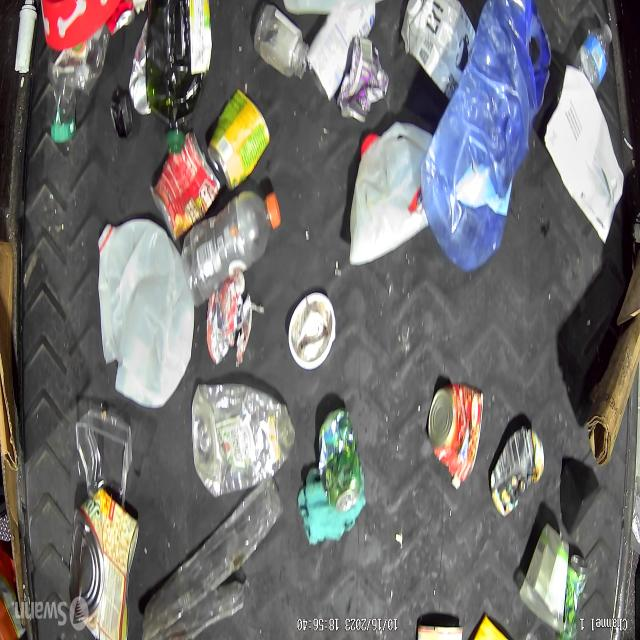can: (69, 486, 140, 640), (149, 131, 221, 241), (207, 92, 270, 192), (427, 384, 484, 486), (338, 36, 389, 124), (318, 408, 360, 513), (561, 554, 588, 640), (129, 18, 149, 116)
milk_jug: (97, 217, 195, 409), (349, 122, 433, 266)
non_white_jug: (420, 0, 552, 274), (145, 0, 211, 129)
plastic_bottle: (193, 384, 295, 498), (182, 191, 280, 308), (46, 38, 112, 144), (568, 23, 612, 92)
